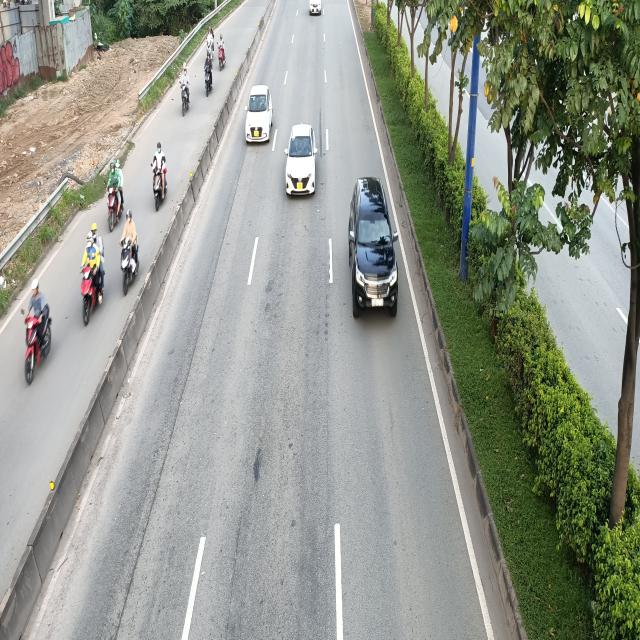car: (346, 176, 397, 316), (284, 124, 318, 198), (246, 86, 276, 146)
